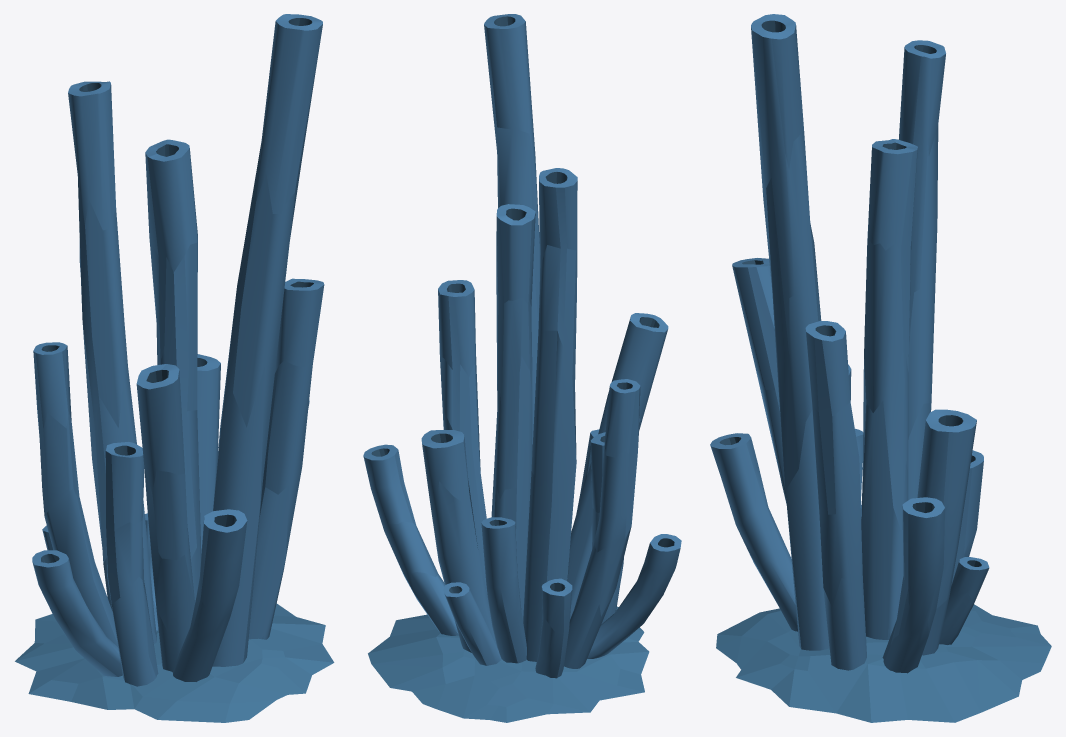
The model's file is coral_tube_set_C.fbx.
The picture shows the model from 3 angles, left to right: view 1: azimuth 30°, elevation 25°; view 2: azimuth 150°, elevation 25°; view 3: azimuth 270°, elevation 25°; orthographic projection. The views are drawn at different scales.
Visible parts, largest first — view 1: coral_tube_set_C_A, coral_tube_set_C_B, coral_tube_set_C_base, coral_tube_set_C_C, coral_tube_set_C_E, coral_tube_set_C_D, coral_tube_set_C_F, coral_tube_set_C_G, coral_tube_set_C_H, coral_tube_set_C_K, coral_tube_set_C_I; view 2: coral_tube_set_C_B, coral_tube_set_C_base, coral_tube_set_C_C, coral_tube_set_C_F, coral_tube_set_C_A, coral_tube_set_C_I, coral_tube_set_C_E, coral_tube_set_C_L, coral_tube_set_C_D, coral_tube_set_C_O, coral_tube_set_C_K, coral_tube_set_C_M (+2 smaller); view 3: coral_tube_set_C_A, coral_tube_set_C_base, coral_tube_set_C_C, coral_tube_set_C_E, coral_tube_set_C_B, coral_tube_set_C_L, coral_tube_set_C_H, coral_tube_set_C_I, coral_tube_set_C_D, coral_tube_set_C_N, coral_tube_set_C_O.
Part boxes in pixels (box(x1,y1,x2,y2)): coral_tube_set_C_A: box(212, 14, 322, 666); coral_tube_set_C_B: box(68, 81, 156, 643); coral_tube_set_C_base: box(15, 603, 334, 722); coral_tube_set_C_C: box(145, 139, 201, 602); coral_tube_set_C_E: box(248, 278, 324, 639); coral_tube_set_C_D: box(136, 364, 194, 671); coral_tube_set_C_F: box(33, 342, 118, 647); coral_tube_set_C_G: box(105, 442, 158, 686); coral_tube_set_C_H: box(172, 509, 247, 681); coral_tube_set_C_K: box(32, 550, 122, 676); coral_tube_set_C_I: box(197, 354, 220, 553); coral_tube_set_C_B: box(523, 168, 577, 661); coral_tube_set_C_base: box(368, 606, 649, 722); coral_tube_set_C_C: box(491, 204, 535, 621); coral_tube_set_C_F: box(564, 379, 640, 668); coral_tube_set_C_A: box(484, 14, 539, 444); coral_tube_set_C_I: box(421, 430, 496, 652); coral_tube_set_C_E: box(438, 280, 487, 595); coral_tube_set_C_L: box(363, 444, 458, 635); coral_tube_set_C_D: box(567, 313, 668, 618); coral_tube_set_C_O: box(481, 517, 526, 663); coral_tube_set_C_K: box(587, 534, 681, 658); coral_tube_set_C_M: box(535, 578, 572, 678); coral_tube_set_C_A: box(751, 14, 829, 650); coral_tube_set_C_base: box(716, 604, 1051, 722); coral_tube_set_C_C: box(861, 139, 917, 639); coral_tube_set_C_E: box(805, 321, 866, 670); coral_tube_set_C_B: box(898, 40, 945, 499); coral_tube_set_C_L: box(882, 497, 944, 673); coral_tube_set_C_H: box(710, 433, 797, 631); coral_tube_set_C_I: box(917, 409, 976, 655); coral_tube_set_C_D: box(732, 258, 786, 503); coral_tube_set_C_N: box(939, 557, 989, 644); coral_tube_set_C_O: box(951, 450, 983, 584).
Size of the model in its own units: 61.95 by 129 by 58.13.
